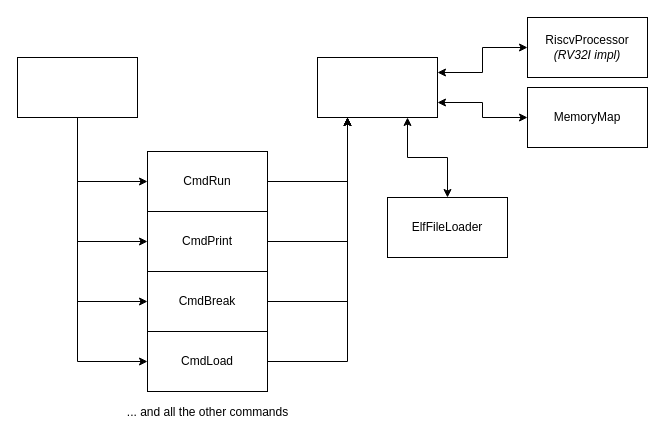
This 665x445 diagram has some shape labels left out. Here are the shapes that lost their labels. From the top down, the box of each, then its label:
(16, 56, 138, 118): Console
(316, 56, 438, 118): SimHost
